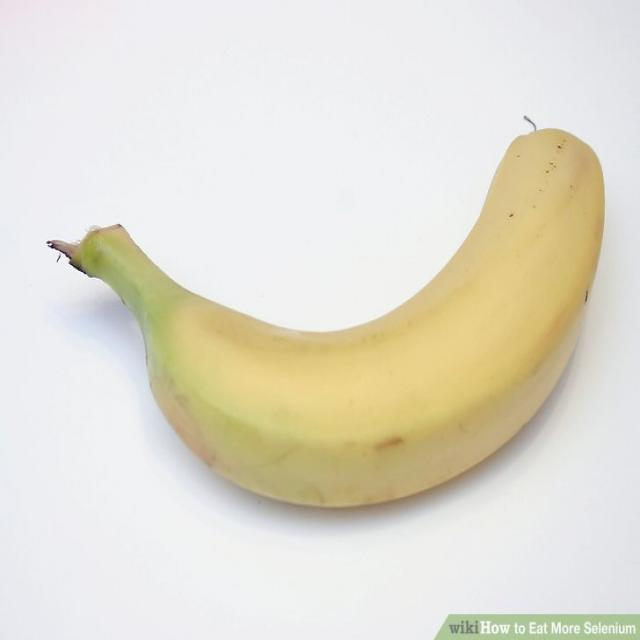Banana: (66, 124, 612, 508)
